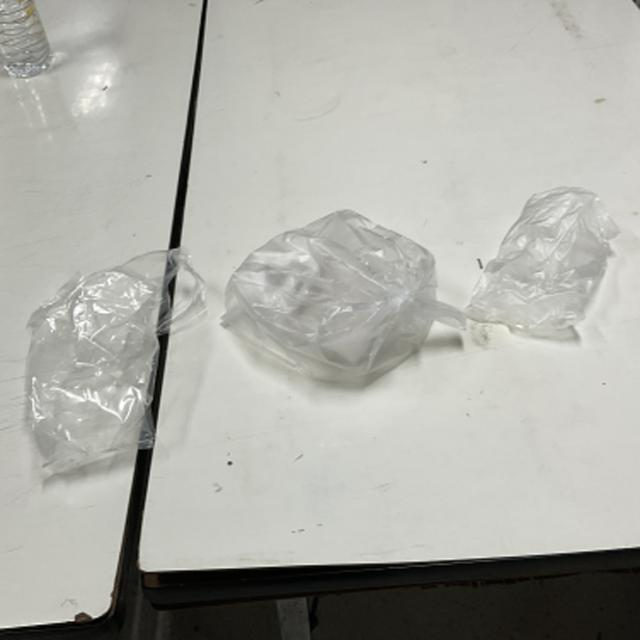Single-layer Plastic: (222, 210, 465, 386), (26, 249, 206, 472), (466, 186, 619, 339)
